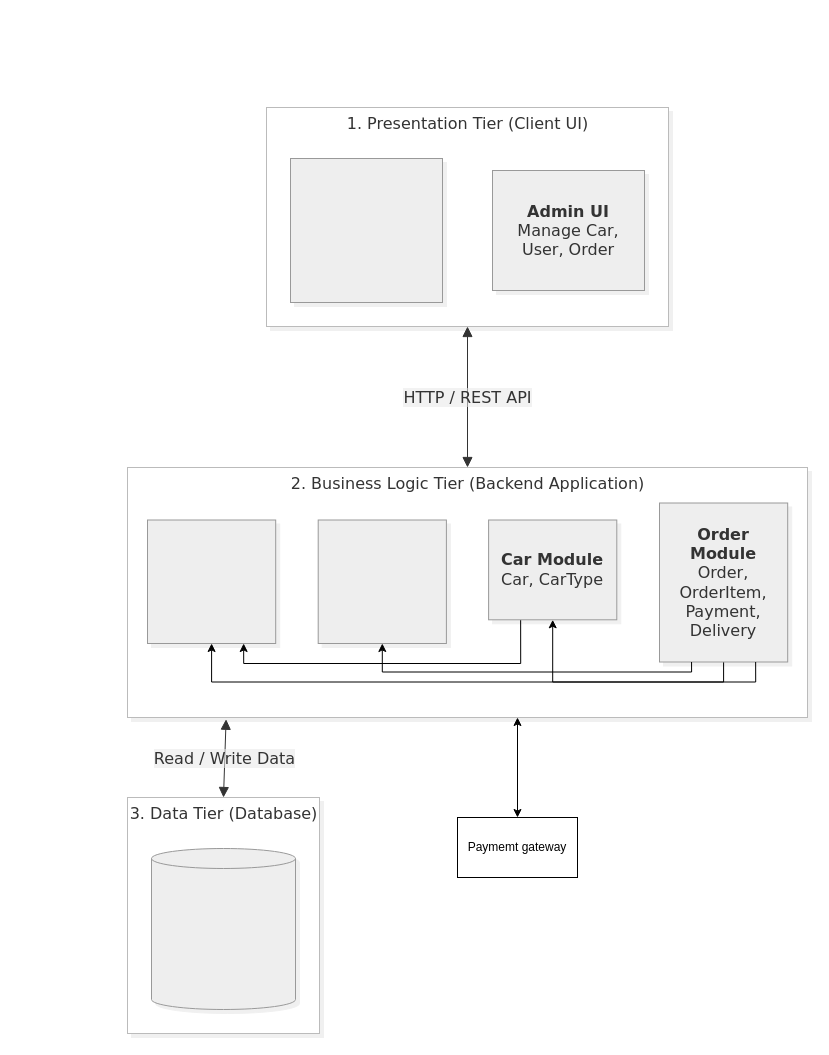
The diagram is 829 pixels wide and 1055 high, and some of its shapes have lost their labels. Here are the shapes that lost their labels. From the top down, the centre of each, then its label:
At (x=368, y=232): "Customer UI Search Car, RentalCart, Order, Login, Sign up".
At (x=213, y=583): "Cart Module RentalCart, CartItem".
At (x=383, y=583): "User Module User, Customer, Admin".
At (x=225, y=931): "MySQL Users, Cars, Order,OrderItem".
